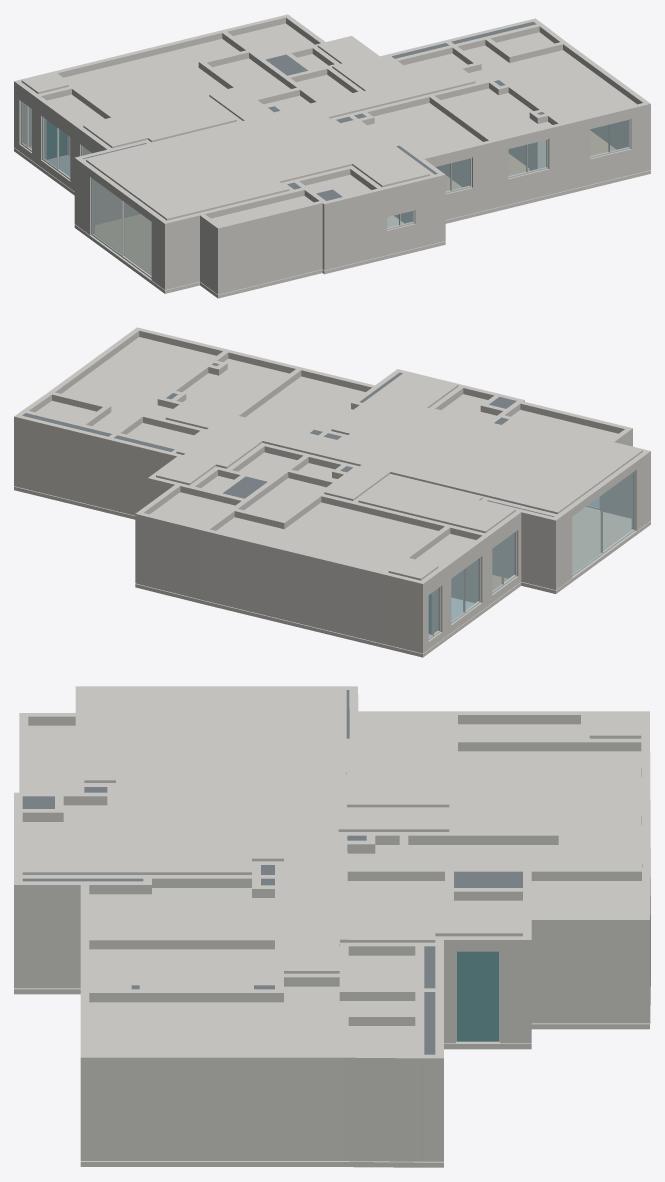
The model's file is acro211a-expanded-archisketch.glb.
3 renders of one model, top to bottom at view 1: azimuth 30°, elevation 25°; view 2: azimuth 150°, elevation 25°; view 3: azimuth 270°, elevation 25°, orthographic. The views are drawn at different scales.
Visible parts, largest first — view 1: Ceiling/living-kitchen-hall, Wall/layer-10/00, Wall/layer-01/01, Ceiling/primary, Ceiling/bedroom-01, Wall/layer-00/01, Ceiling/bedroom-04, Wall/layer-04/01, Ceiling/bedroom-03, Wall/layer-03/01, Base/00, Ceiling/bedroom-02 (+35 smaller); view 2: Ceiling/living-kitchen-hall, Wall/layer-10/00, Ceiling/primary, Ceiling/bedroom-01, Wall/layer-01/02, Ceiling/bedroom-04, Wall/layer-03/06, Wall/layer-00/00, Wall/layer-04/05, Ceiling/bedroom-03, Wall/layer-01/01, Ceiling/bedroom-02 (+32 smaller); view 3: Ceiling/living-kitchen-hall, Wall/layer-10/00, Ceiling/primary, Ceiling/bedroom-01, Wall/layer-01/01, Ceiling/bedroom-04, Ceiling/bedroom-03, Wall/layer-03/05, Ceiling/bedroom-02, Wall/layer-04/04, Wall/layer-00/01, Base/00 (+24 smaller).
Boxes of the visible parts, bbox=[...] form: Ceiling/living-kitchen-hall: bbox=[86, 37, 475, 220]; Wall/layer-10/00: bbox=[14, 14, 650, 235]; Wall/layer-01/01: bbox=[151, 123, 650, 287]; Ceiling/primary: bbox=[63, 39, 239, 116]; Ceiling/bedroom-01: bbox=[463, 45, 636, 122]; Wall/layer-00/01: bbox=[151, 128, 650, 294]; Ceiling/bedroom-04: bbox=[83, 96, 236, 148]; Wall/layer-04/01: bbox=[151, 190, 445, 256]; Ceiling/bedroom-03: bbox=[367, 103, 482, 156]; Wall/layer-03/01: bbox=[151, 217, 386, 269]; Base/00: bbox=[14, 148, 650, 298]; Ceiling/bedroom-02: bbox=[441, 88, 551, 139]; Ceiling/living-kitchen-hall: bbox=[156, 372, 642, 514]; Wall/layer-10/00: bbox=[14, 327, 650, 591]; Ceiling/primary: bbox=[216, 502, 438, 571]; Ceiling/bedroom-01: bbox=[62, 337, 216, 431]; Wall/layer-01/02: bbox=[135, 558, 428, 645]; Ceiling/bedroom-04: bbox=[358, 475, 515, 533]; Wall/layer-03/06: bbox=[135, 543, 428, 626]; Wall/layer-00/00: bbox=[135, 567, 572, 653]; Wall/layer-04/05: bbox=[135, 495, 428, 612]; Ceiling/bedroom-03: bbox=[245, 376, 365, 431]; Wall/layer-01/01: bbox=[14, 461, 650, 523]; Ceiling/bedroom-02: bbox=[182, 358, 289, 414]; Ceiling/living-kitchen-hall: bbox=[22, 687, 522, 973]; Wall/layer-10/00: bbox=[14, 686, 650, 1070]; Ceiling/primary: bbox=[458, 751, 641, 867]; Ceiling/bedroom-01: bbox=[89, 986, 415, 1053]; Wall/layer-01/01: bbox=[14, 950, 455, 1150]; Ceiling/bedroom-04: bbox=[346, 712, 449, 807]; Ceiling/bedroom-03: bbox=[89, 888, 274, 936]; Wall/layer-03/05: bbox=[80, 983, 455, 1121]; Ceiling/bedroom-02: bbox=[89, 949, 274, 989]; Wall/layer-04/04: bbox=[80, 964, 455, 1101]; Wall/layer-00/01: bbox=[14, 977, 455, 1161]; Base/00: bbox=[14, 981, 650, 1167].
Size of the model in its own units: 20.07 by 2.82 by 14.52.
